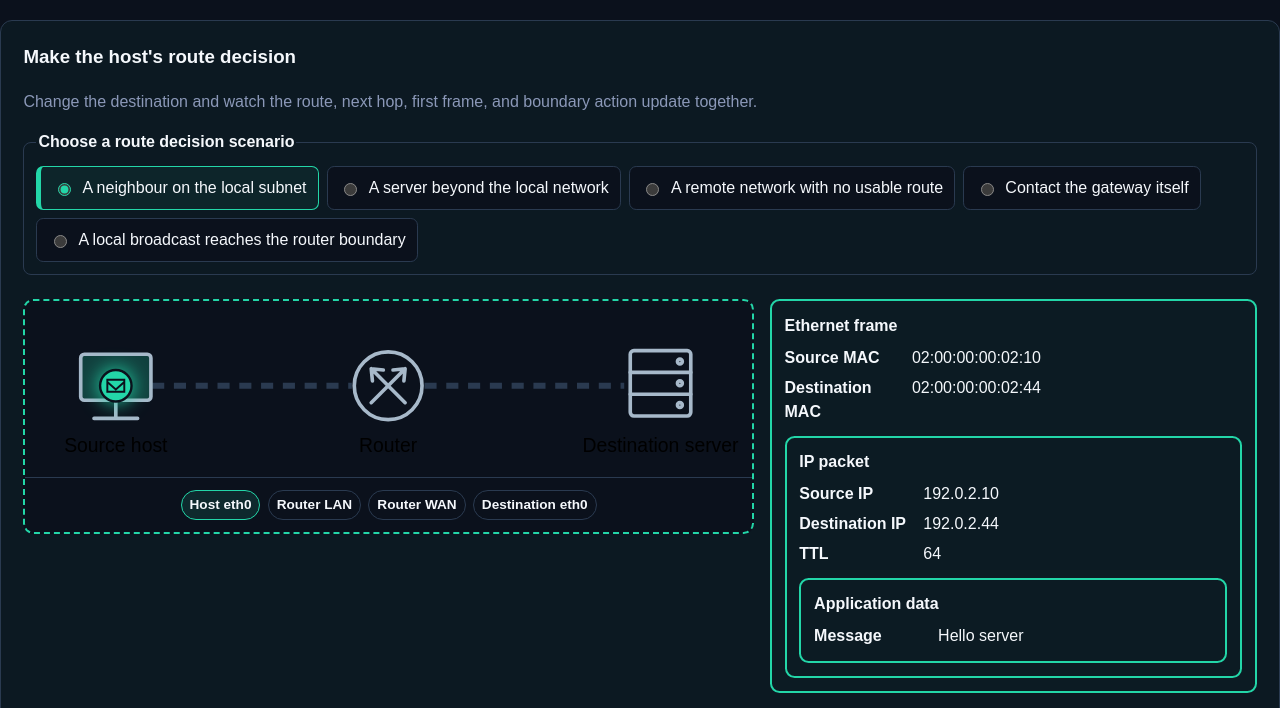
it: RouteDecisionPlayer › updates every result together for gateway and no-route cases
The image size is (1280, 708).
What coordinates should you click on to do the following:
click the radio button labelled "A server beyond the local network"
I would click on:
 (350, 190)
Its box is [344,183,357,196].
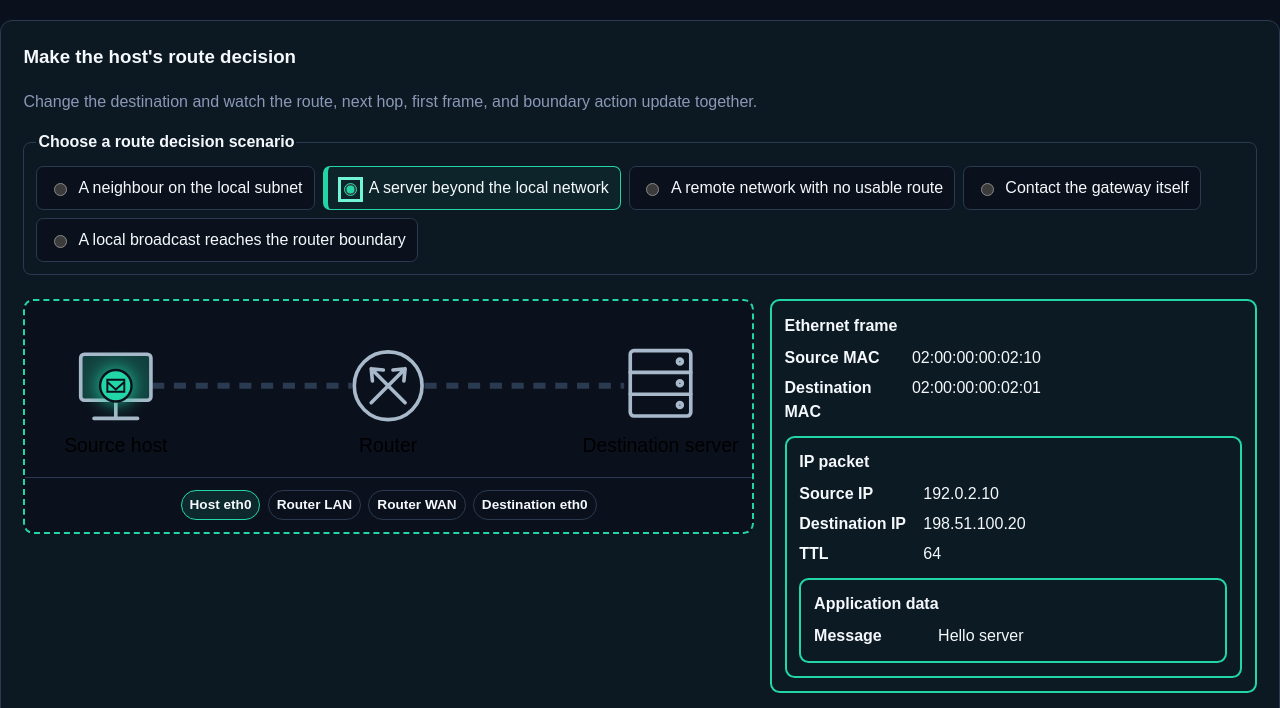
What coordinates should you click on to do the following:
click the radio button labelled "A remote network with no usable route"
I would click on:
 (653, 190)
Its box is [646,183,659,196].
(page scrolled)
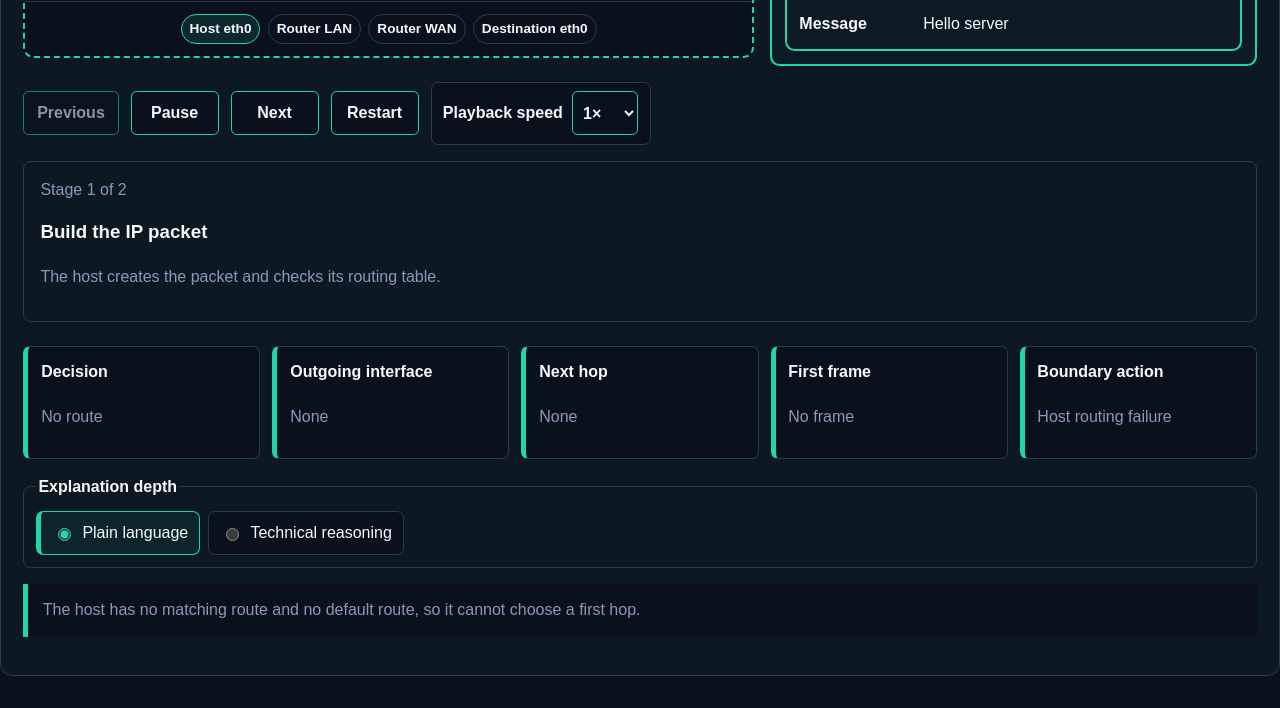
Check: the element "Decision" shows "No route", box [41,408,103,425]
Check: the element "Outgoing interface" shows "None", box [290,408,328,425]
Check: the element "First frame" shows "No frame", box [788,408,854,425]
